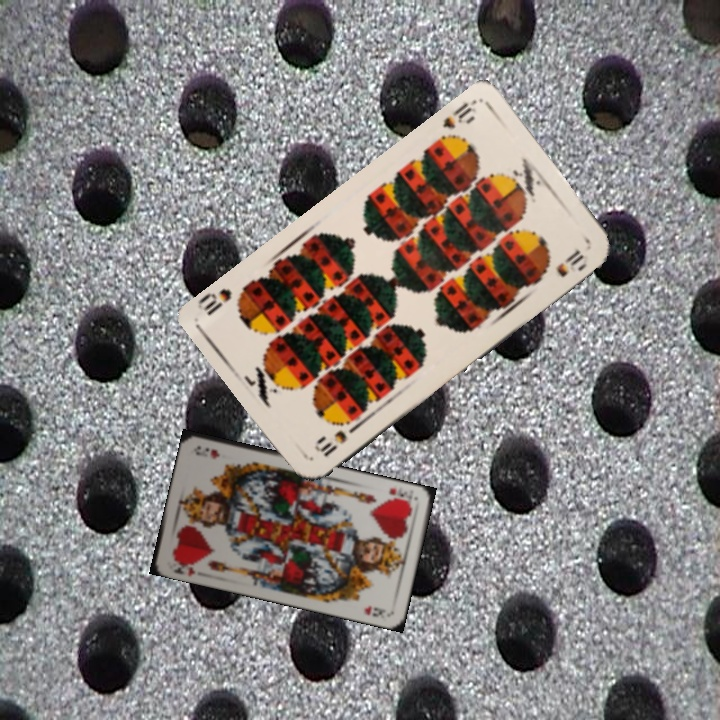HK: (169, 554, 201, 578), (385, 483, 413, 505)
S10: (311, 420, 361, 460), (438, 96, 479, 132)
